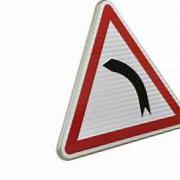left: (55, 1, 180, 161)
